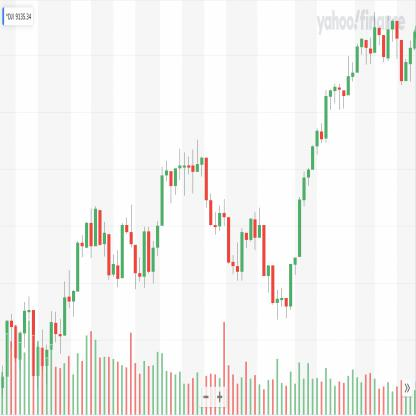Bullish: 3 White Soldiers: (151, 162, 164, 286)
